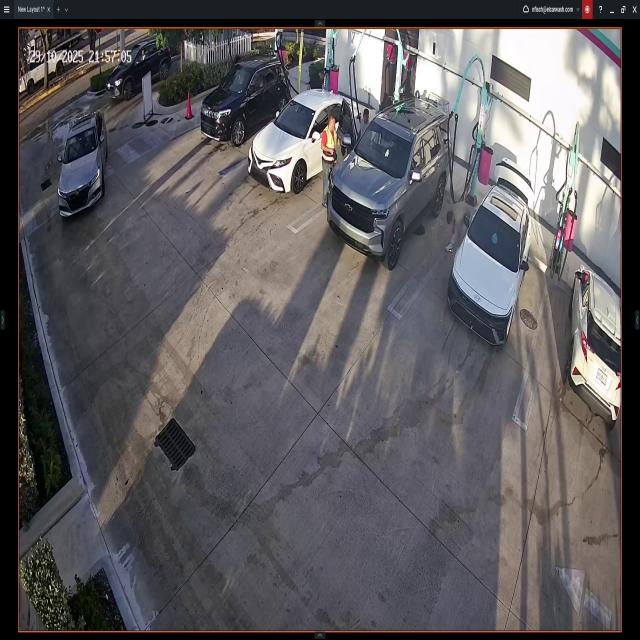Car: (330, 99, 449, 268), (452, 165, 531, 346), (247, 90, 359, 191), (569, 261, 621, 431), (202, 51, 292, 149), (58, 114, 108, 217), (109, 40, 171, 106)
